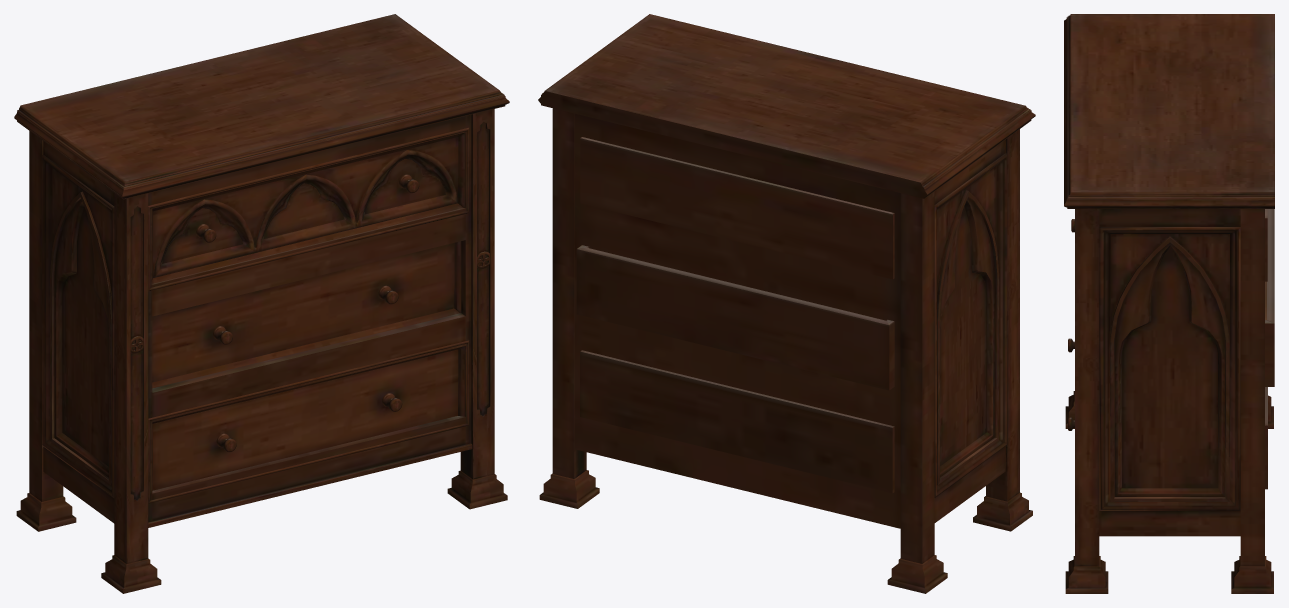
The model's file is gothiccommode_01.glb.
3 views of the same model, side by side, from view 1: azimuth 30°, elevation 25°; view 2: azimuth 150°, elevation 25°; view 3: azimuth 270°, elevation 25° (orthographic). The views are drawn at different scales.
Parts seen in each view (by area): view 1: GothicCommode_01; view 2: GothicCommode_01; view 3: GothicCommode_01.
Part boxes in pixels (x1,y1,x2,y2): GothicCommode_01: (14,14,509,593); GothicCommode_01: (538,14,1035,593); GothicCommode_01: (1064,14,1274,593).
Bounding box in the file's own units: 1.2 × 1.21 × 0.5806.
1 material, 1 textured.
